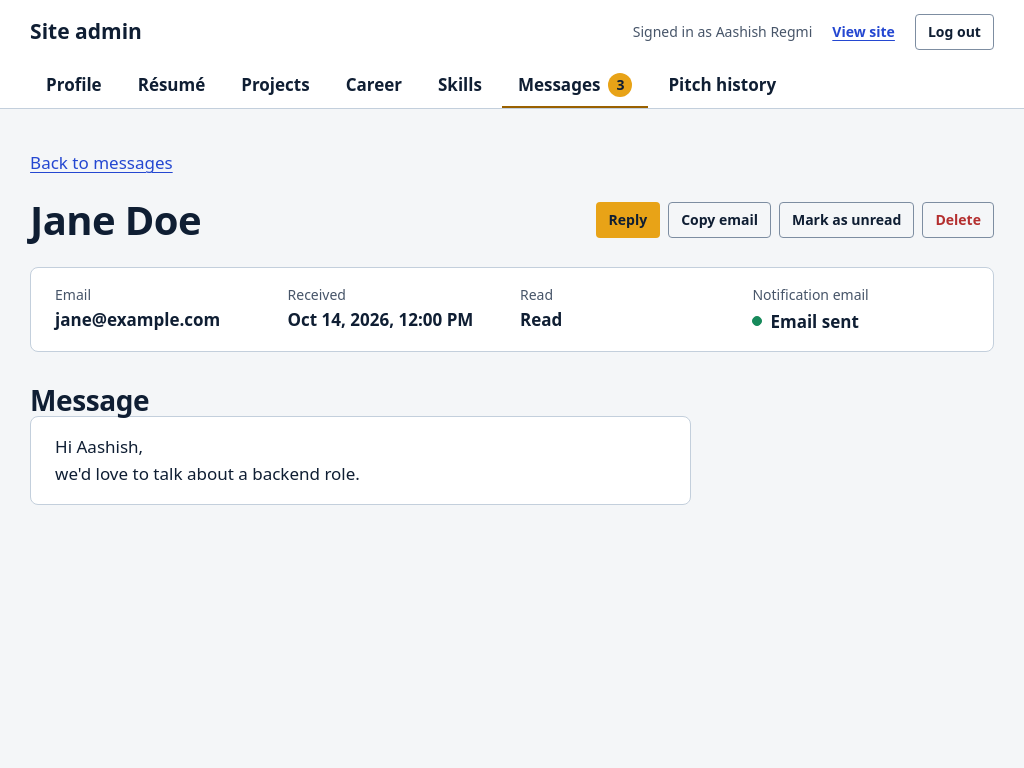
Test case: Messages: detail › marks as unread with the CSRF header
Expected: the heading "Jane Doe" is shown, 30,197 -> 201,243
Click the button "Mark as unread" at (847, 220), box 779,202 -> 914,238
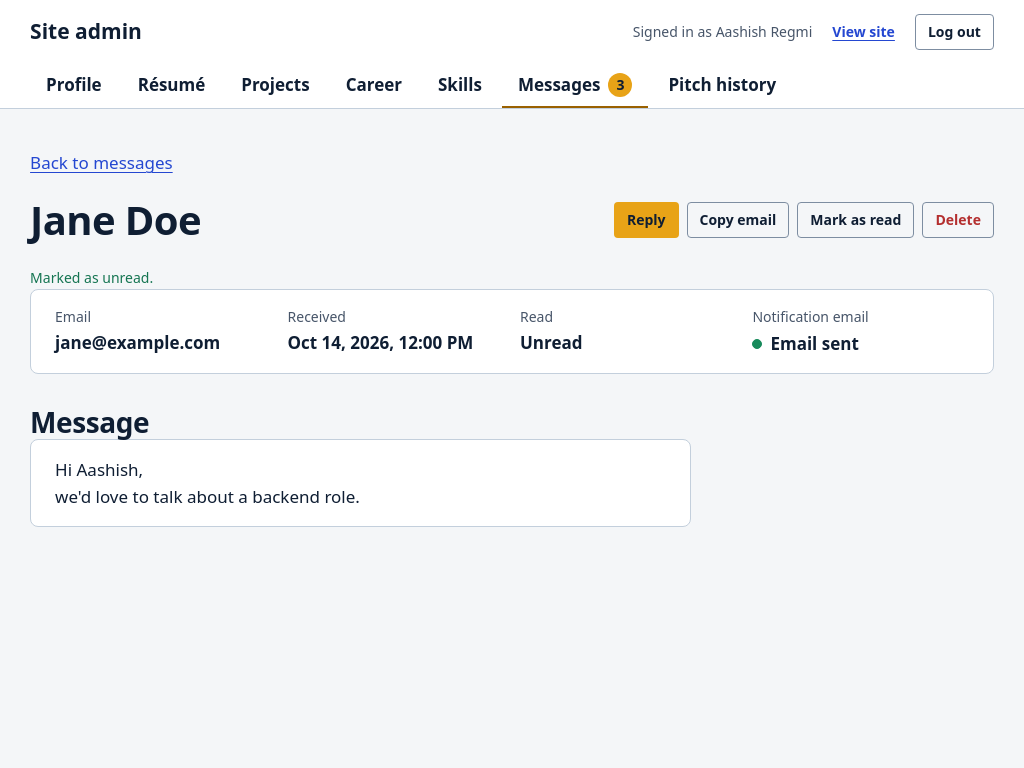
Expected: the text "Marked as unread." is shown, 30,268 -> 153,287
Expected: the button "Mark as read" is shown, 797,202 -> 914,238
